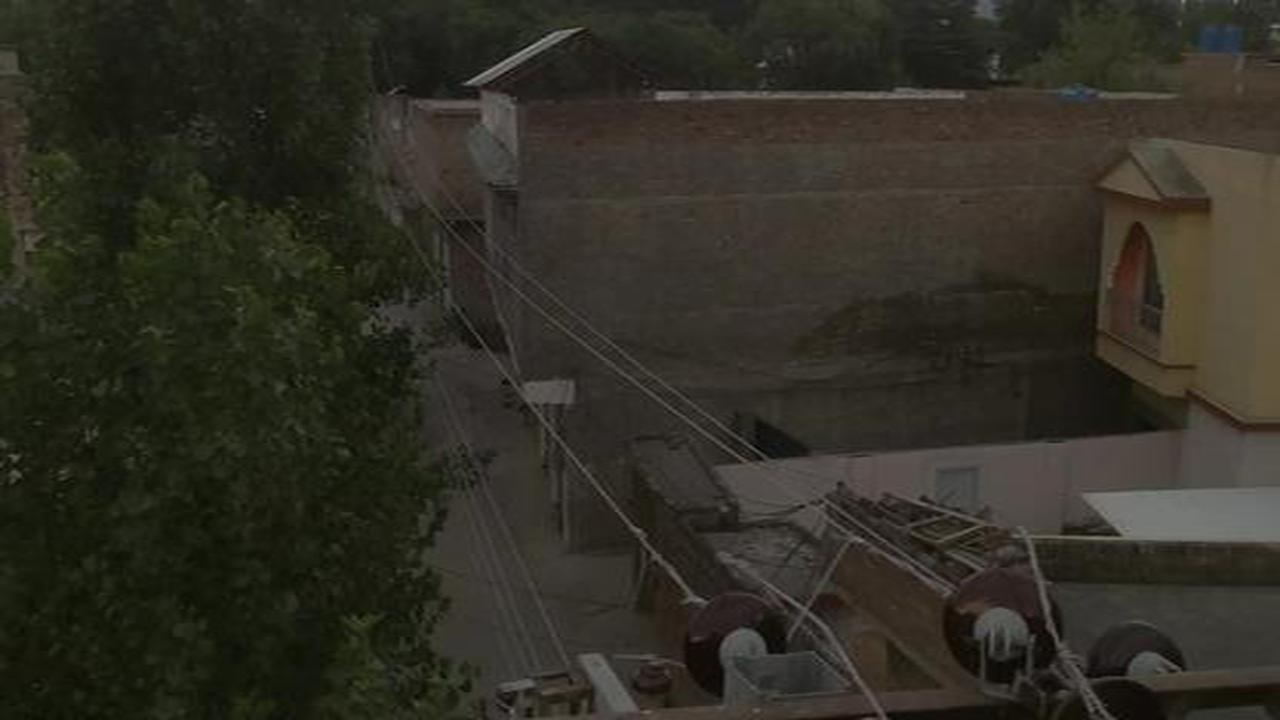insulator_disc: (939, 566, 1068, 681), (683, 588, 788, 675), (1084, 615, 1188, 681)
